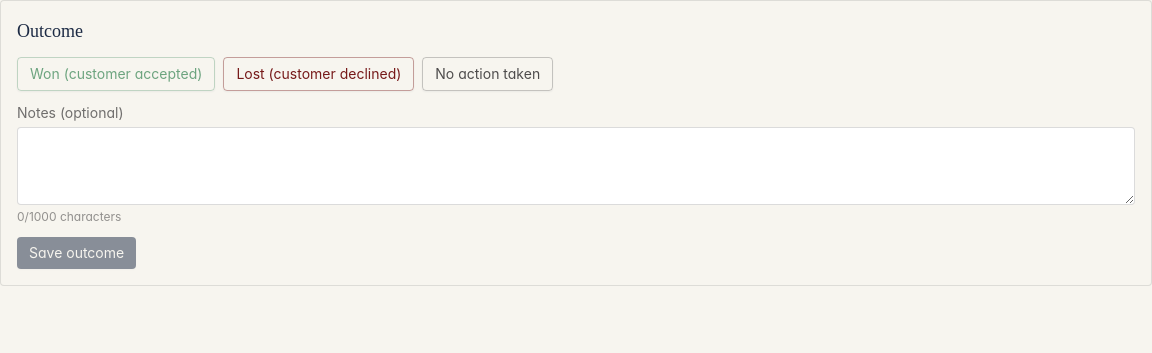
it: OutcomeCaptureSection (HUB-1641) › AC#9 — submit failure renders inline error + keeps buttons available › non-network failure surfaces the server message + outcome buttons stay available for retry
This screenshot has width=1152, height=353.
Click the button with test id "outcome-button-won": point(116, 74) x1=17 y1=57 x2=215 y2=91
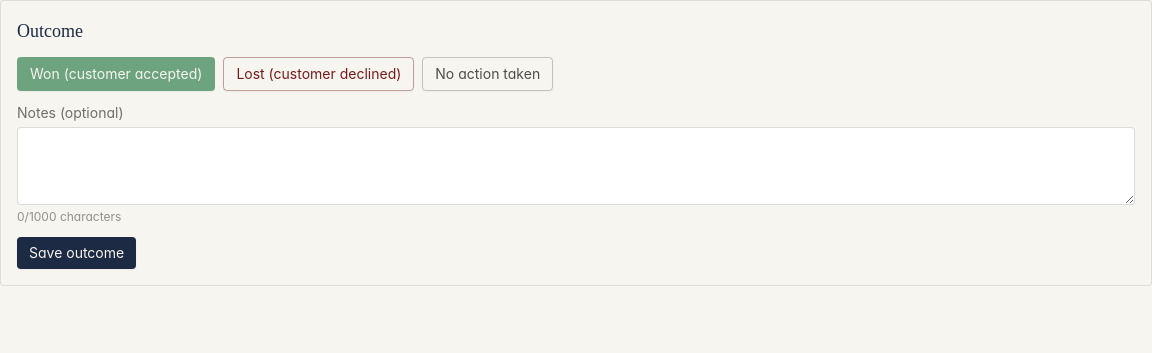
Click the button with test id "outcome-submit-button": point(77, 253) x1=17 y1=237 x2=136 y2=269
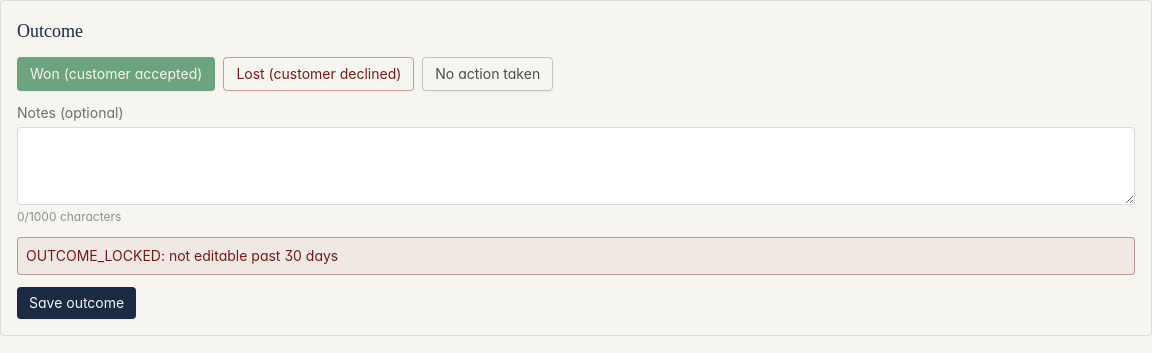
expect the button with test id "outcome-button-won" is enabled: met, box x1=17 y1=57 x2=215 y2=91
expect the message with test id "outcome-submit-error" shows "OUTCOME_LOCKED": met, box x1=26 y1=247 x2=338 y2=264
